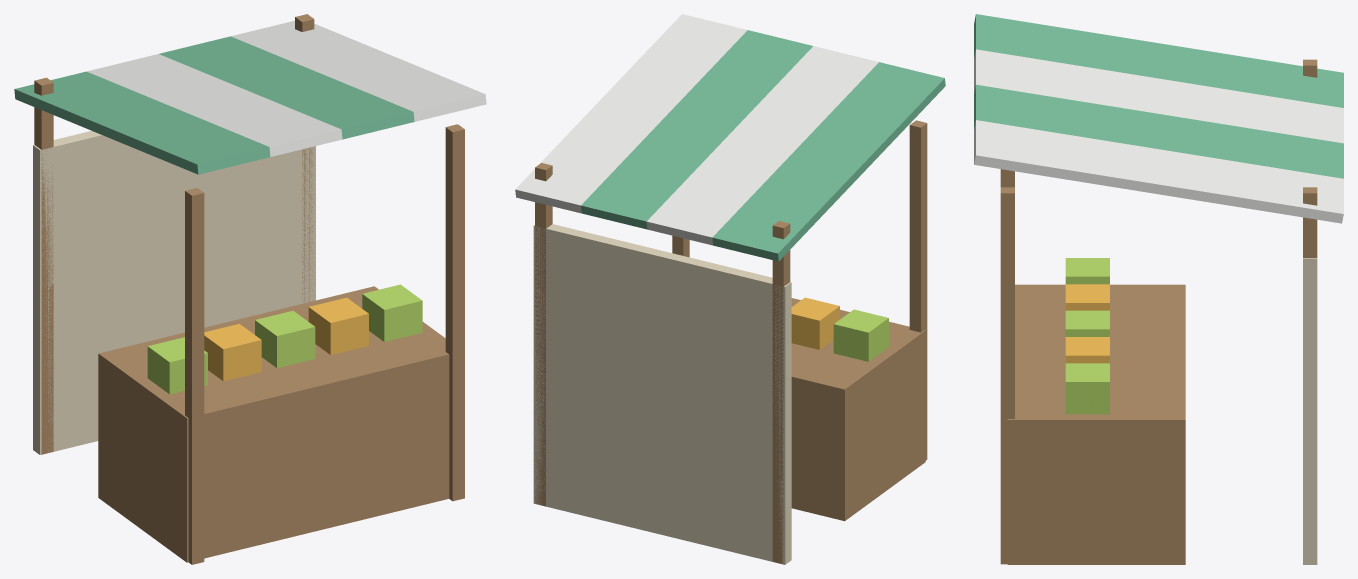
File: IZ_Puesto.fbx
3 renders of one model, left to right at view 1: azimuth 30°, elevation 25°; view 2: azimuth 150°, elevation 25°; view 3: azimuth 270°, elevation 25°, orthographic. The views are drawn at different scales.
Visible parts, largest first — view 1: IZ_Puesto; view 2: IZ_Puesto; view 3: IZ_Puesto.
Boxes of the visible parts, x1,y1,x2,y2 form: IZ_Puesto: (14, 14, 486, 564); IZ_Puesto: (515, 14, 945, 564); IZ_Puesto: (974, 14, 1343, 564).
Bounding box in the file's own units: 1.88 × 2.56 × 2.08.
